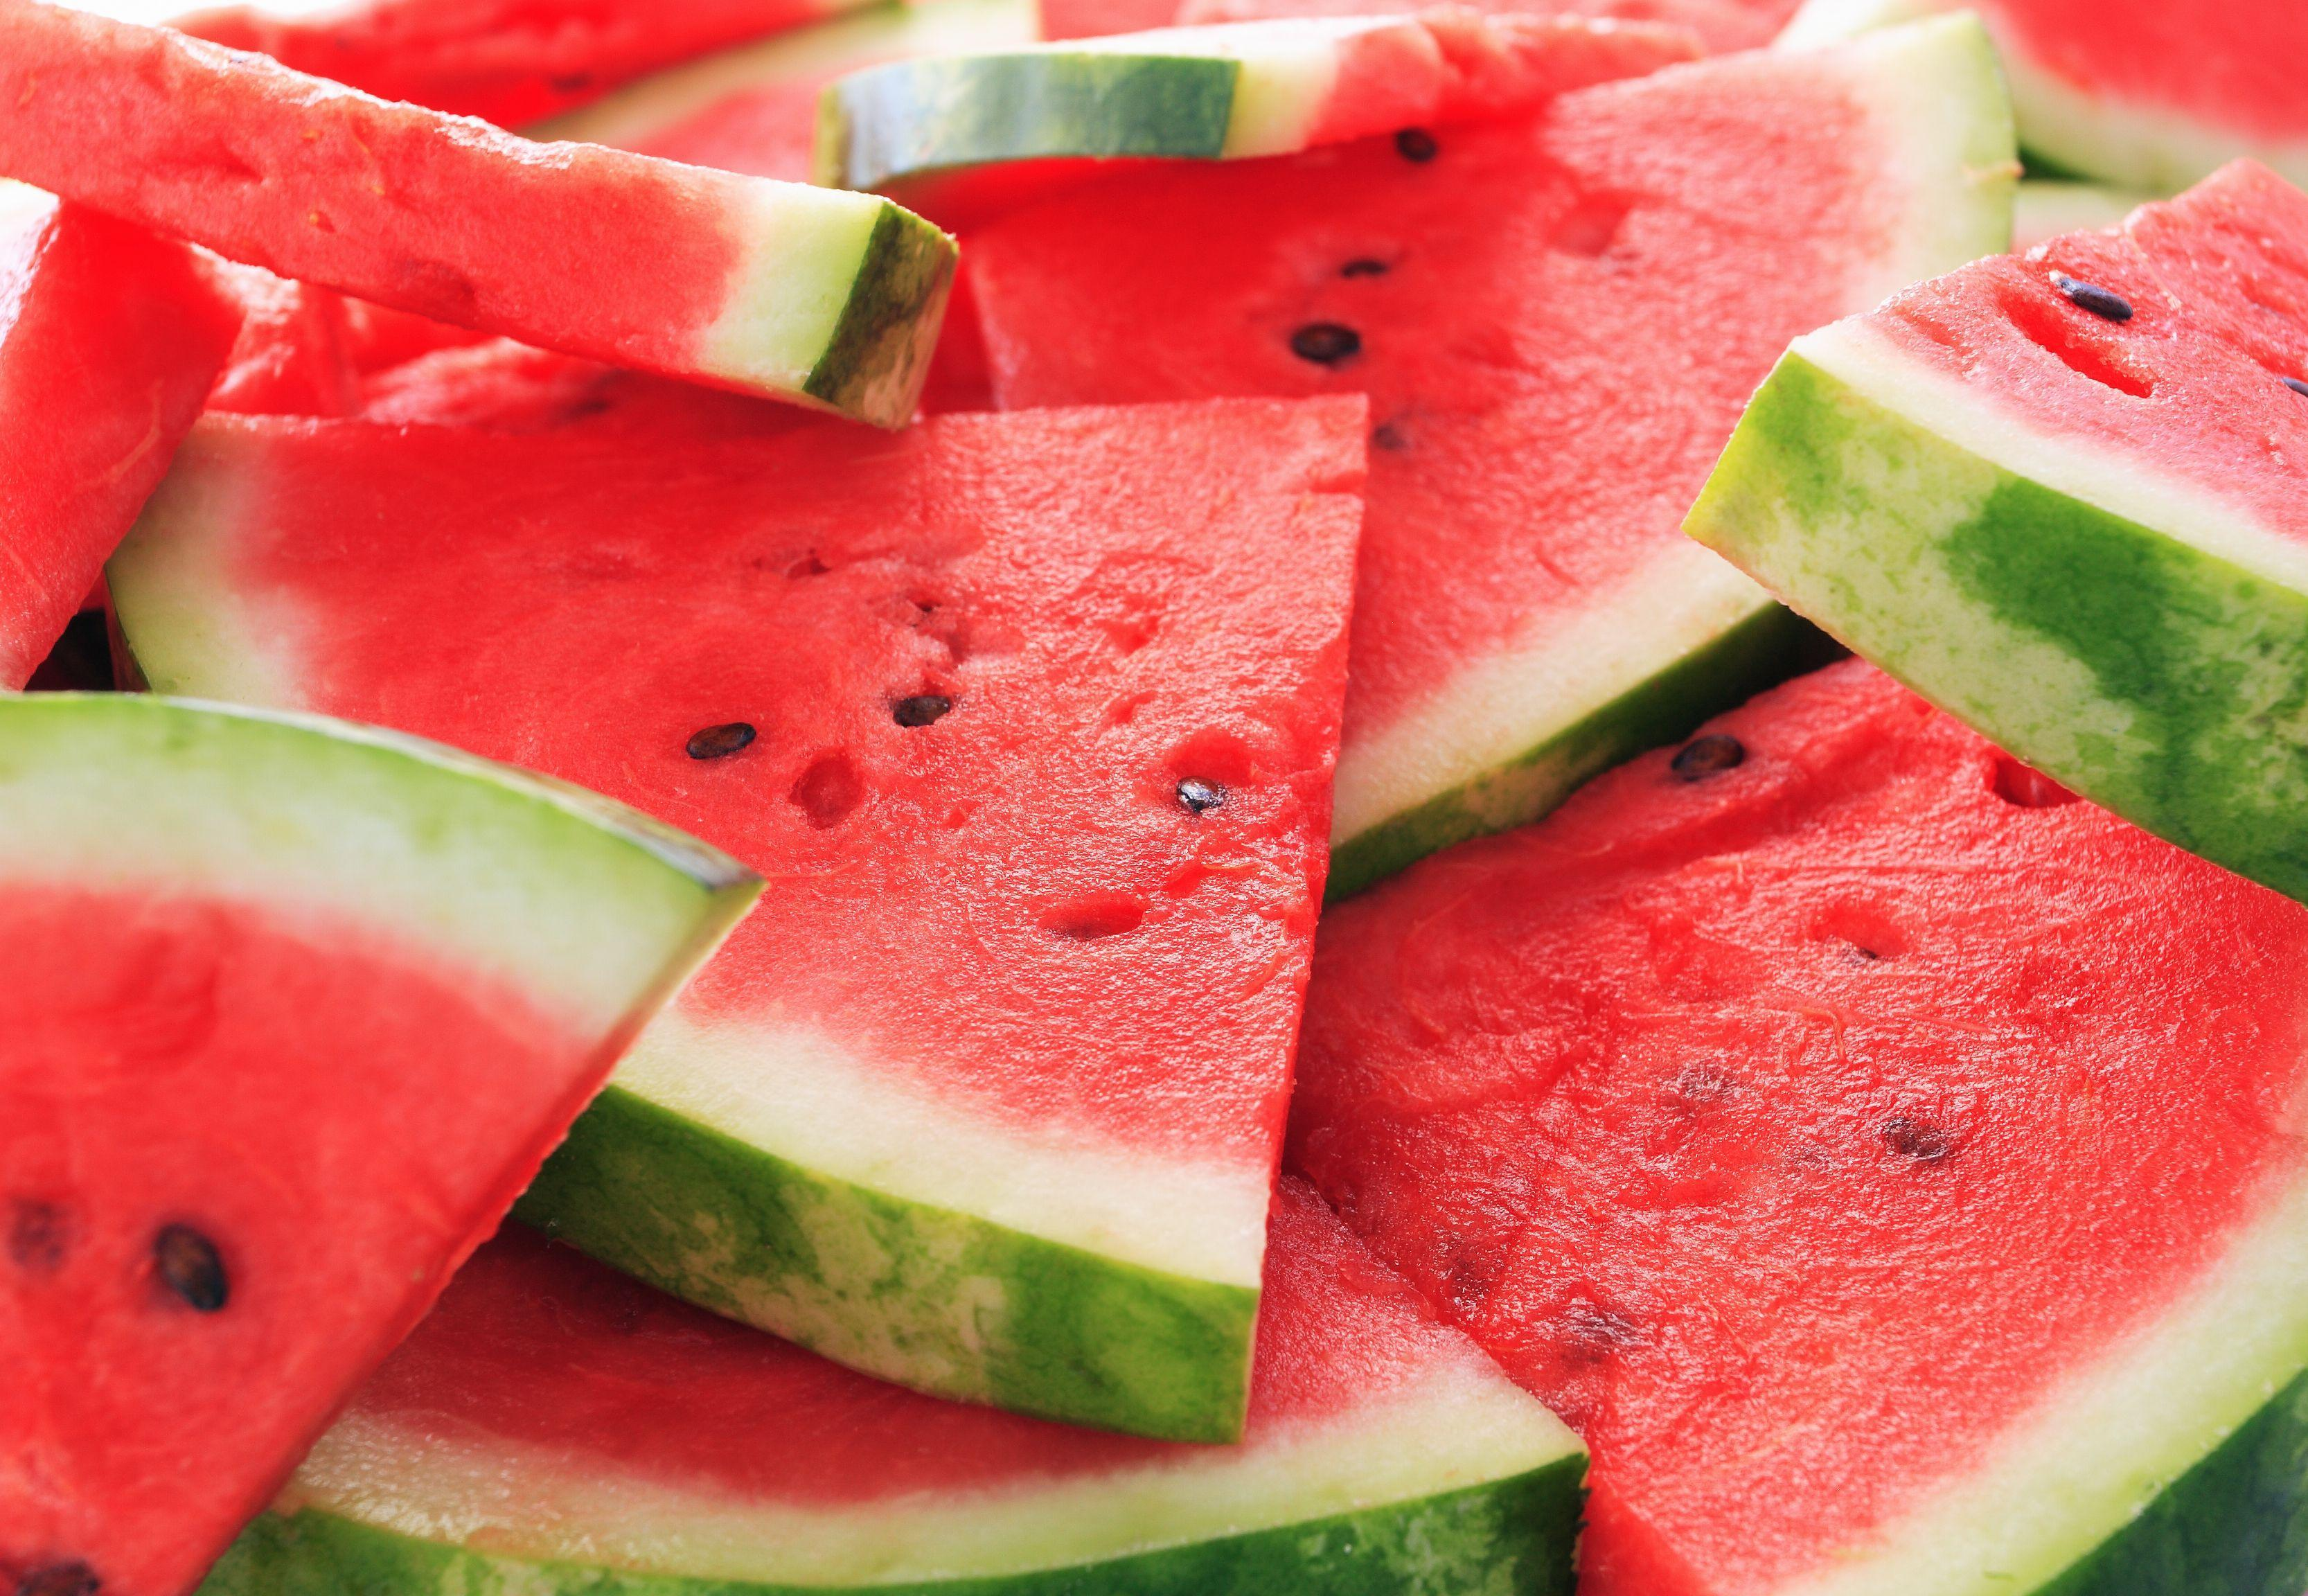apple: (1964, 4, 2304, 184)
